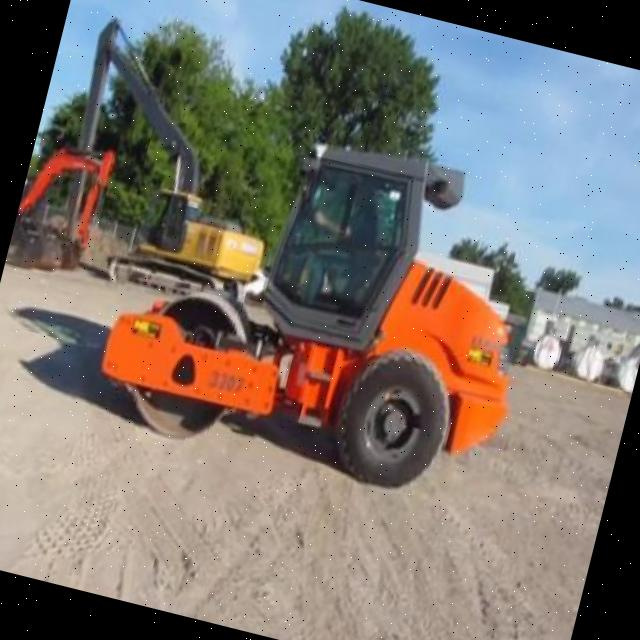Excavator: (42, 12, 308, 304)
Roller: (87, 90, 565, 516)
